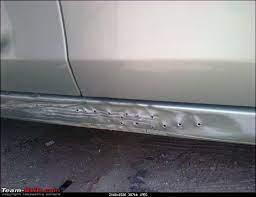RunningBoard-Dent: (2, 94, 249, 141)
